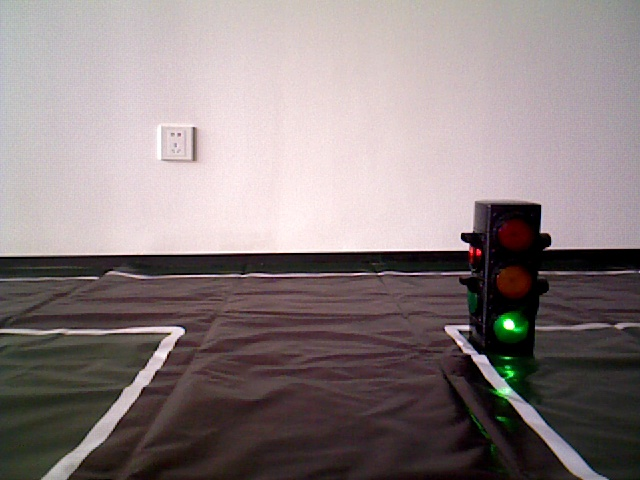green: (474, 204, 535, 350)
